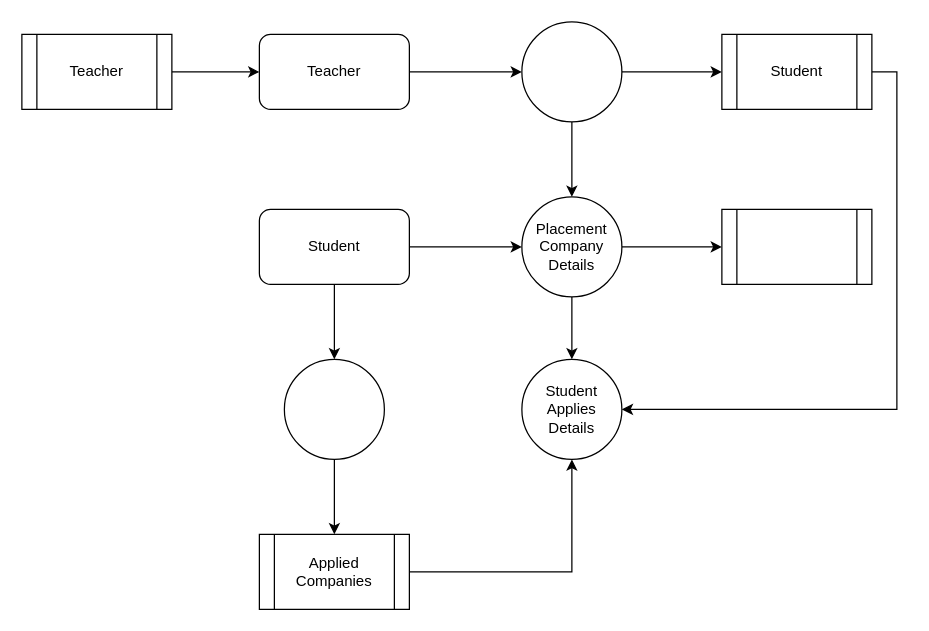
Image size: 929x631. Some labels were removed from this diagram. Each missing label, with the centre of its shape:
Apply Company: (x=333, y=408)
Placement Company: (x=796, y=246)
Student Registration: (x=571, y=71)
